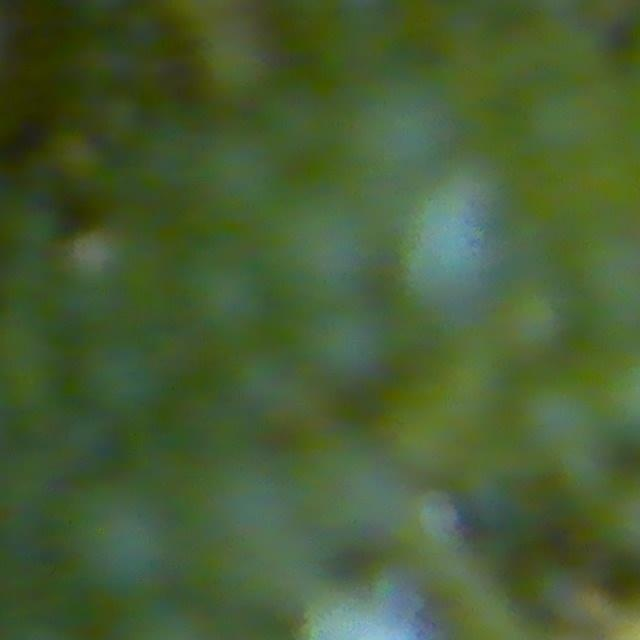SeaGrape: (63, 478, 179, 597), (335, 63, 451, 181), (511, 368, 610, 469), (302, 301, 397, 389), (181, 254, 271, 339), (496, 277, 576, 363), (63, 224, 140, 299)
